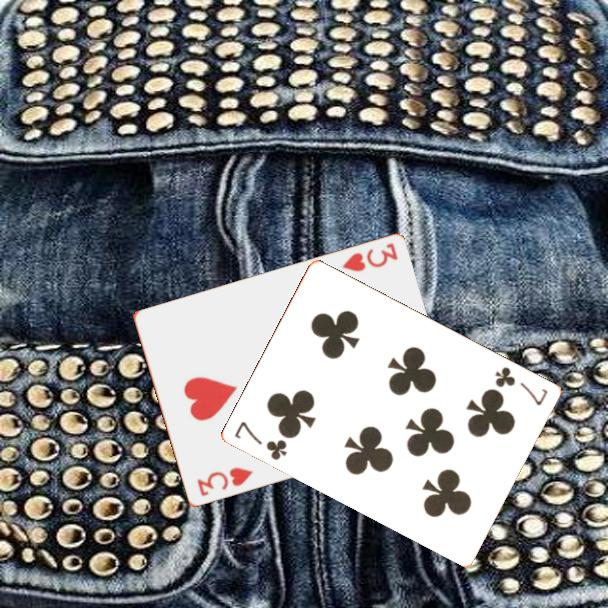c07: (231, 417, 291, 463), (492, 363, 551, 409)
h03: (338, 239, 401, 275), (193, 464, 256, 499)
